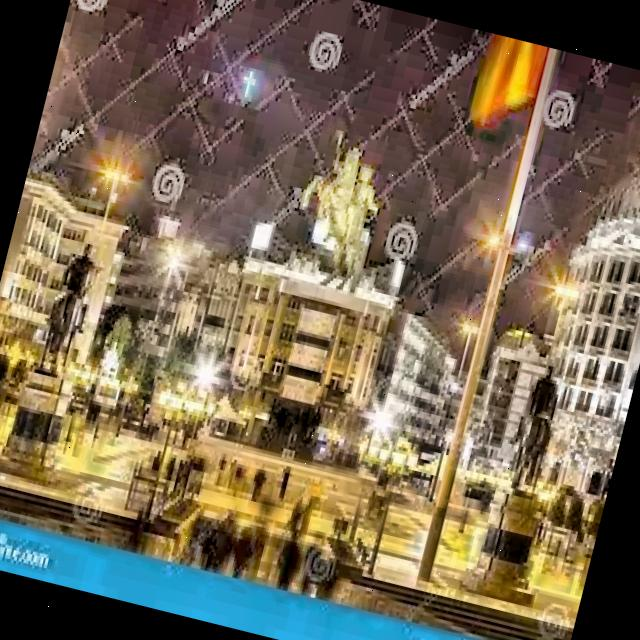alexander the great monument: (237, 121, 411, 462)
